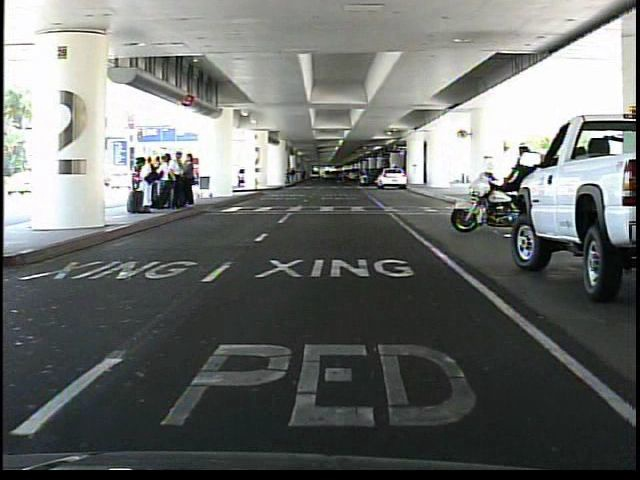person: (502, 136, 542, 234)
